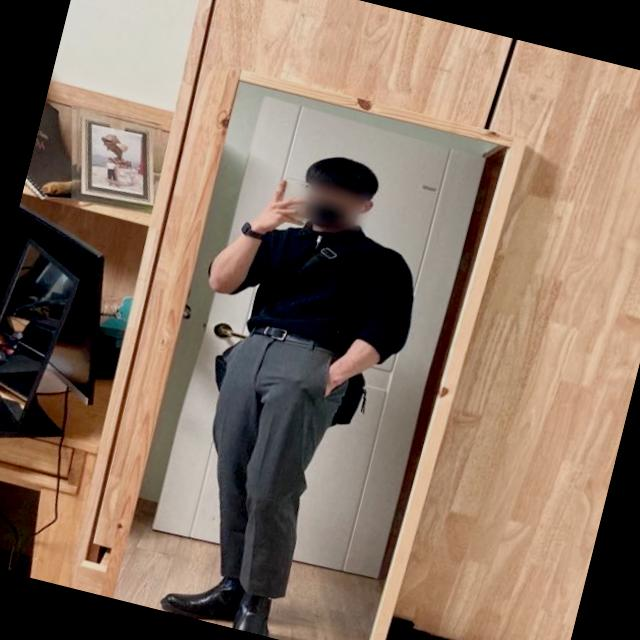shortsleeve: (221, 204, 428, 372)
slacks: (163, 316, 369, 608)
